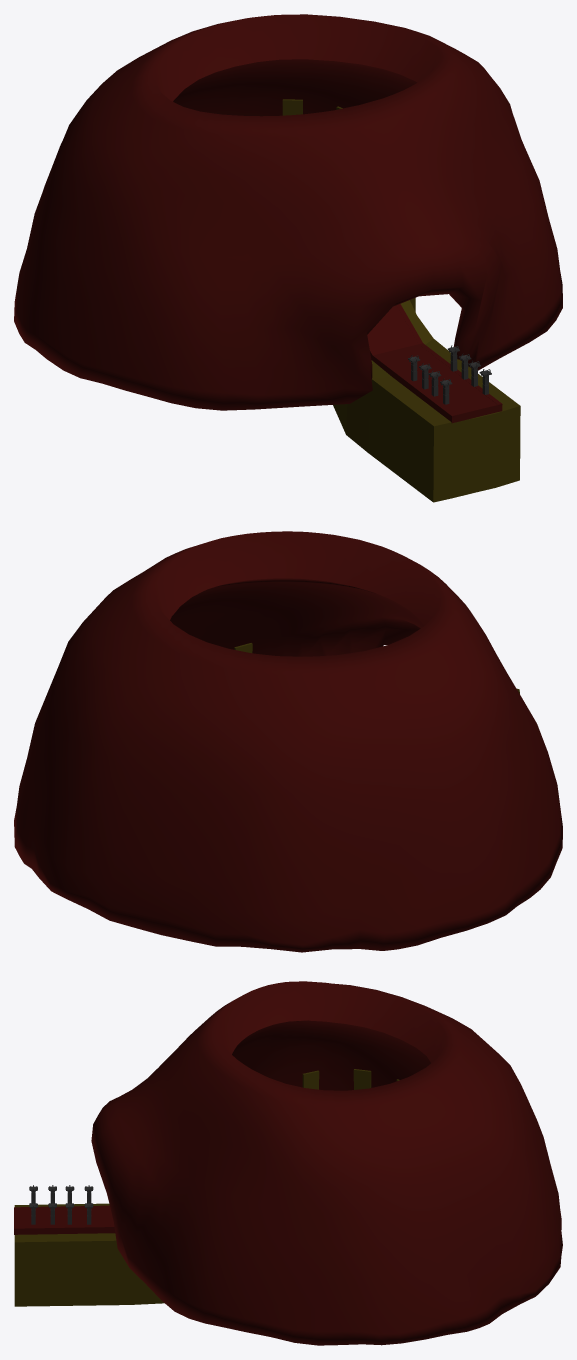
File: Zona_boss (1).fbx
3 views of the same model, one above another, from view 1: azimuth 30°, elevation 25°; view 2: azimuth 150°, elevation 25°; view 3: azimuth 270°, elevation 25° (orthographic). The views are drawn at different scales.
Visible parts, largest first — view 1: Sphere, Cylinder.001, Cube.001, Cube.004; view 2: Sphere; view 3: Sphere, Cylinder.001, Cube.001, Cube.004, Cube.005.
Part boxes in pixels (left/top/right/bottom): Sphere: left=14, top=14, right=562, bottom=410; Cylinder.001: left=333, top=298, right=520, bottom=502; Cube.001: left=367, top=304, right=502, bottom=423; Cube.004: left=408, top=345, right=491, bottom=404; Sphere: left=14, top=531, right=562, bottom=952; Sphere: left=91, top=981, right=562, bottom=1345; Cylinder.001: left=14, top=1203, right=164, bottom=1306; Cube.001: left=14, top=1205, right=115, bottom=1234; Cube.004: left=29, top=1185, right=93, bottom=1224; Cube.005: left=302, top=1069, right=399, bottom=1089.
Size of the model in its own units: 82978 by 49470 by 94022.
